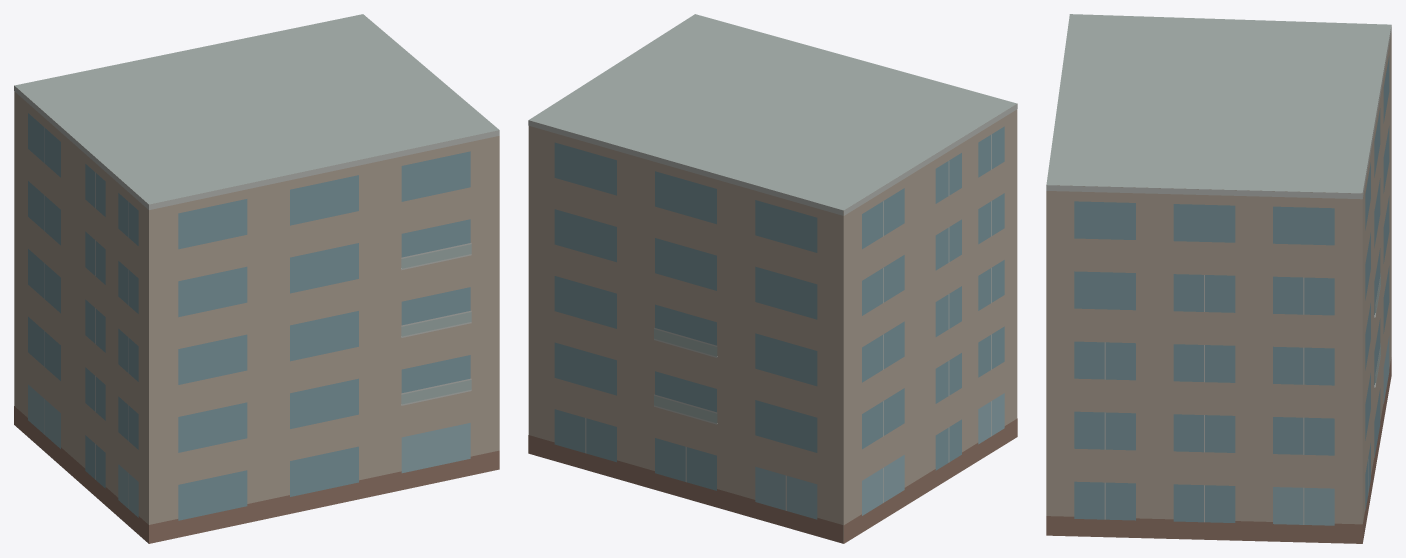
Rendered from survey-upis-32480149.glb.
3 renders of one model, left to right at view 1: azimuth 30°, elevation 25°; view 2: azimuth 150°, elevation 25°; view 3: azimuth 270°, elevation 25°, orthographic. The views are drawn at different scales.
Visible parts, largest first — view 1: survey-upis-32480149.tmp; view 2: survey-upis-32480149.tmp; view 3: survey-upis-32480149.tmp.
Part boxes in pixels (x1,y1,x2,y2): survey-upis-32480149.tmp: [14, 14, 499, 543]; survey-upis-32480149.tmp: [528, 14, 1017, 543]; survey-upis-32480149.tmp: [1046, 14, 1391, 543].
Bounding box in the file's own units: 16.26 × 14.8 × 13.22.
